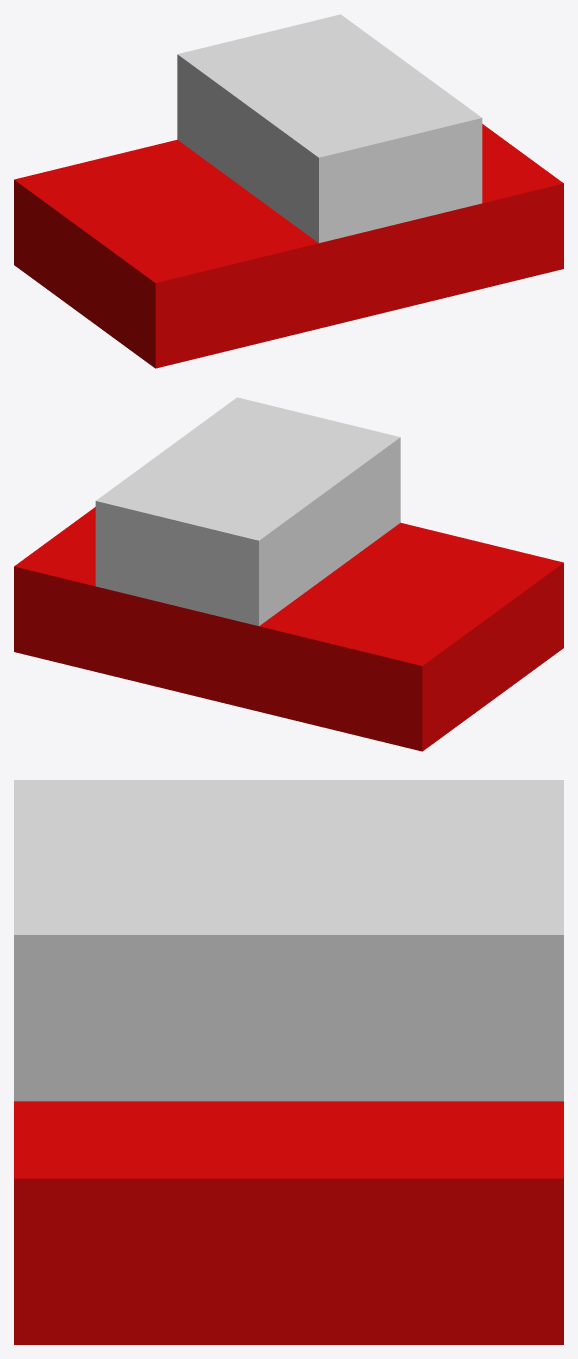
The model's file is Car.fbx.
3 renders of one model, top to bottom at view 1: azimuth 30°, elevation 25°; view 2: azimuth 150°, elevation 25°; view 3: azimuth 270°, elevation 25°, orthographic. The views are drawn at different scales.
Visible parts, largest first — view 1: pCube1, pCube2; view 2: pCube1, pCube2; view 3: pCube2, pCube1.
Part boxes in pixels (bbox=[...]): pCube1: bbox=[14, 124, 563, 368]; pCube2: bbox=[177, 14, 482, 242]; pCube1: bbox=[14, 507, 563, 751]; pCube2: bbox=[95, 397, 400, 625]; pCube2: bbox=[14, 780, 563, 1101]; pCube1: bbox=[14, 1101, 563, 1344].
Size of the model in its own units: 5 by 2 by 3.
